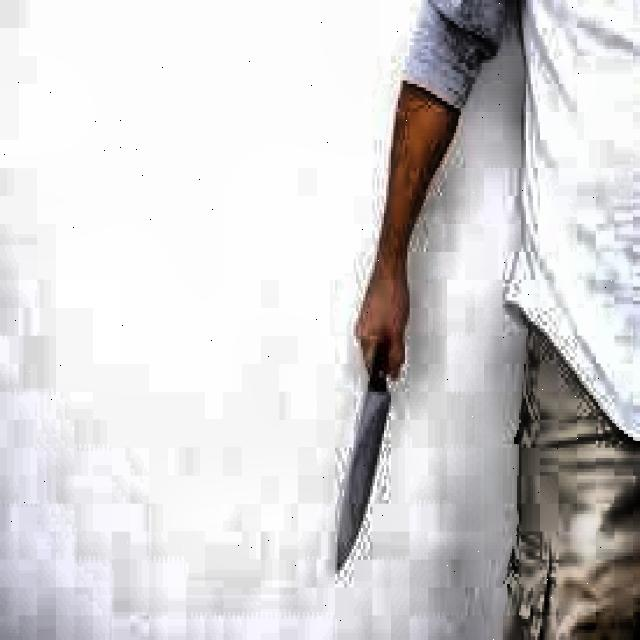knife: (338, 339, 395, 574)
